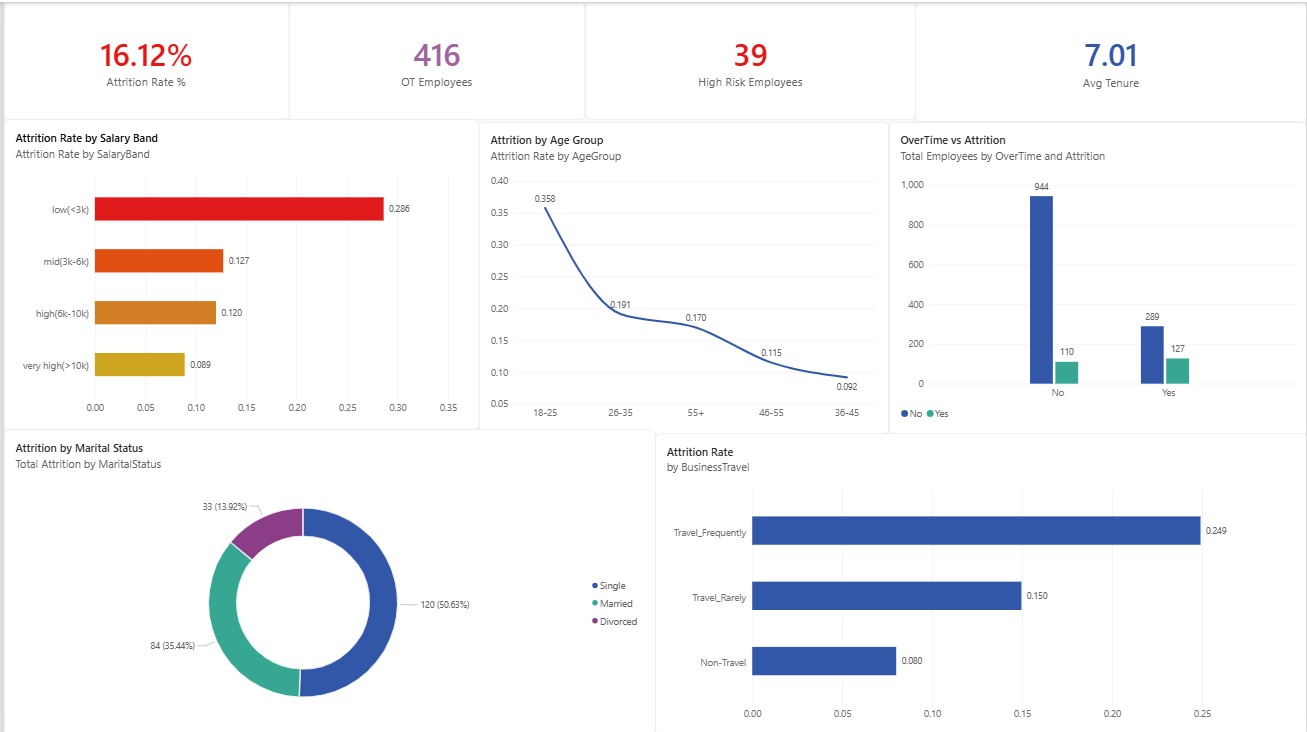

What the dashboard file says about the page in this screenshot:
{"tool":"powerbi","page":{"name":" ATTRITION ANALYSIS","canvas":[1920,1080],"ordinal":1},"visuals":[{"type":"card","fields":{"Values":["vw_hr_main.Attrition Rate %"]},"box":[0,0,419.6,173.9],"z":0},{"type":"card","fields":{"Values":["vw_hr_main.OT Employees"]},"box":[419.6,0,435.8,173.9],"z":1000},{"type":"card","fields":{"Values":["vw_hr_main.High Risk Employees"]},"box":[855.5,0,486.8,173.9],"z":2000},{"type":"card","fields":{"Values":["vw_hr_main.Avg Tenure"]},"box":[1342.3,0,577.3,176.2],"z":3000},{"type":"clusteredBarChart","title":"Attrition Rate by Salary Band","fields":{"Category":["vw_hr_main.SalaryBand"],"Y":["vw_hr_main.Attrition Rate"]},"box":[0,173.2,700.3,456.7],"z":4000},{"type":"lineChart","title":"Attrition by Age Group","fields":{"Category":["vw_hr_main.AgeGroup"],"Y":["vw_hr_main.Attrition Rate"]},"box":[700.3,177,603.2,460.5],"z":5000},{"type":"clusteredColumnChart","title":"OverTime vs Attrition","fields":{"Category":["vw_hr_main.OverTime"],"Series":["vw_hr_main.Attrition"],"Y":["vw_hr_main.Total Employees"]},"box":[1303.5,177,616.5,460.5],"z":6000},{"type":"donutChart","title":"Attrition by Marital Status","fields":{"Category":["vw_hr_main.MaritalStatus"],"Y":["vw_hr_main.Total Attrition"]},"box":[0,629.9,959,451],"z":7000},{"type":"clusteredBarChart","fields":{"Category":["vw_hr_main.BusinessTravel"],"Y":["vw_hr_main.Attrition Rate"]},"box":[959,635.6,961,445.3],"z":8000}]}

Visuals, with their boxes in screenshot pixels (x1, y1, x2, y2), scaled from the page's 1920x1080 canvas onto the 1307x732 screenshot:
card - vw_hr_main.Attrition Rate %: Rect(0, 0, 286, 118)
card - vw_hr_main.OT Employees: Rect(286, 0, 582, 118)
card - vw_hr_main.High Risk Employees: Rect(582, 0, 914, 118)
card - vw_hr_main.Avg Tenure: Rect(914, 0, 1306, 119)
"Attrition Rate by Salary Band" clusteredBarChart: Rect(0, 117, 477, 427)
"Attrition by Age Group" lineChart: Rect(477, 120, 887, 432)
"OverTime vs Attrition" clusteredColumnChart: Rect(887, 120, 1306, 432)
"Attrition by Marital Status" donutChart: Rect(0, 427, 653, 731)
clusteredBarChart - vw_hr_main.BusinessTravel x vw_hr_main.Attrition Rate: Rect(653, 431, 1306, 731)
